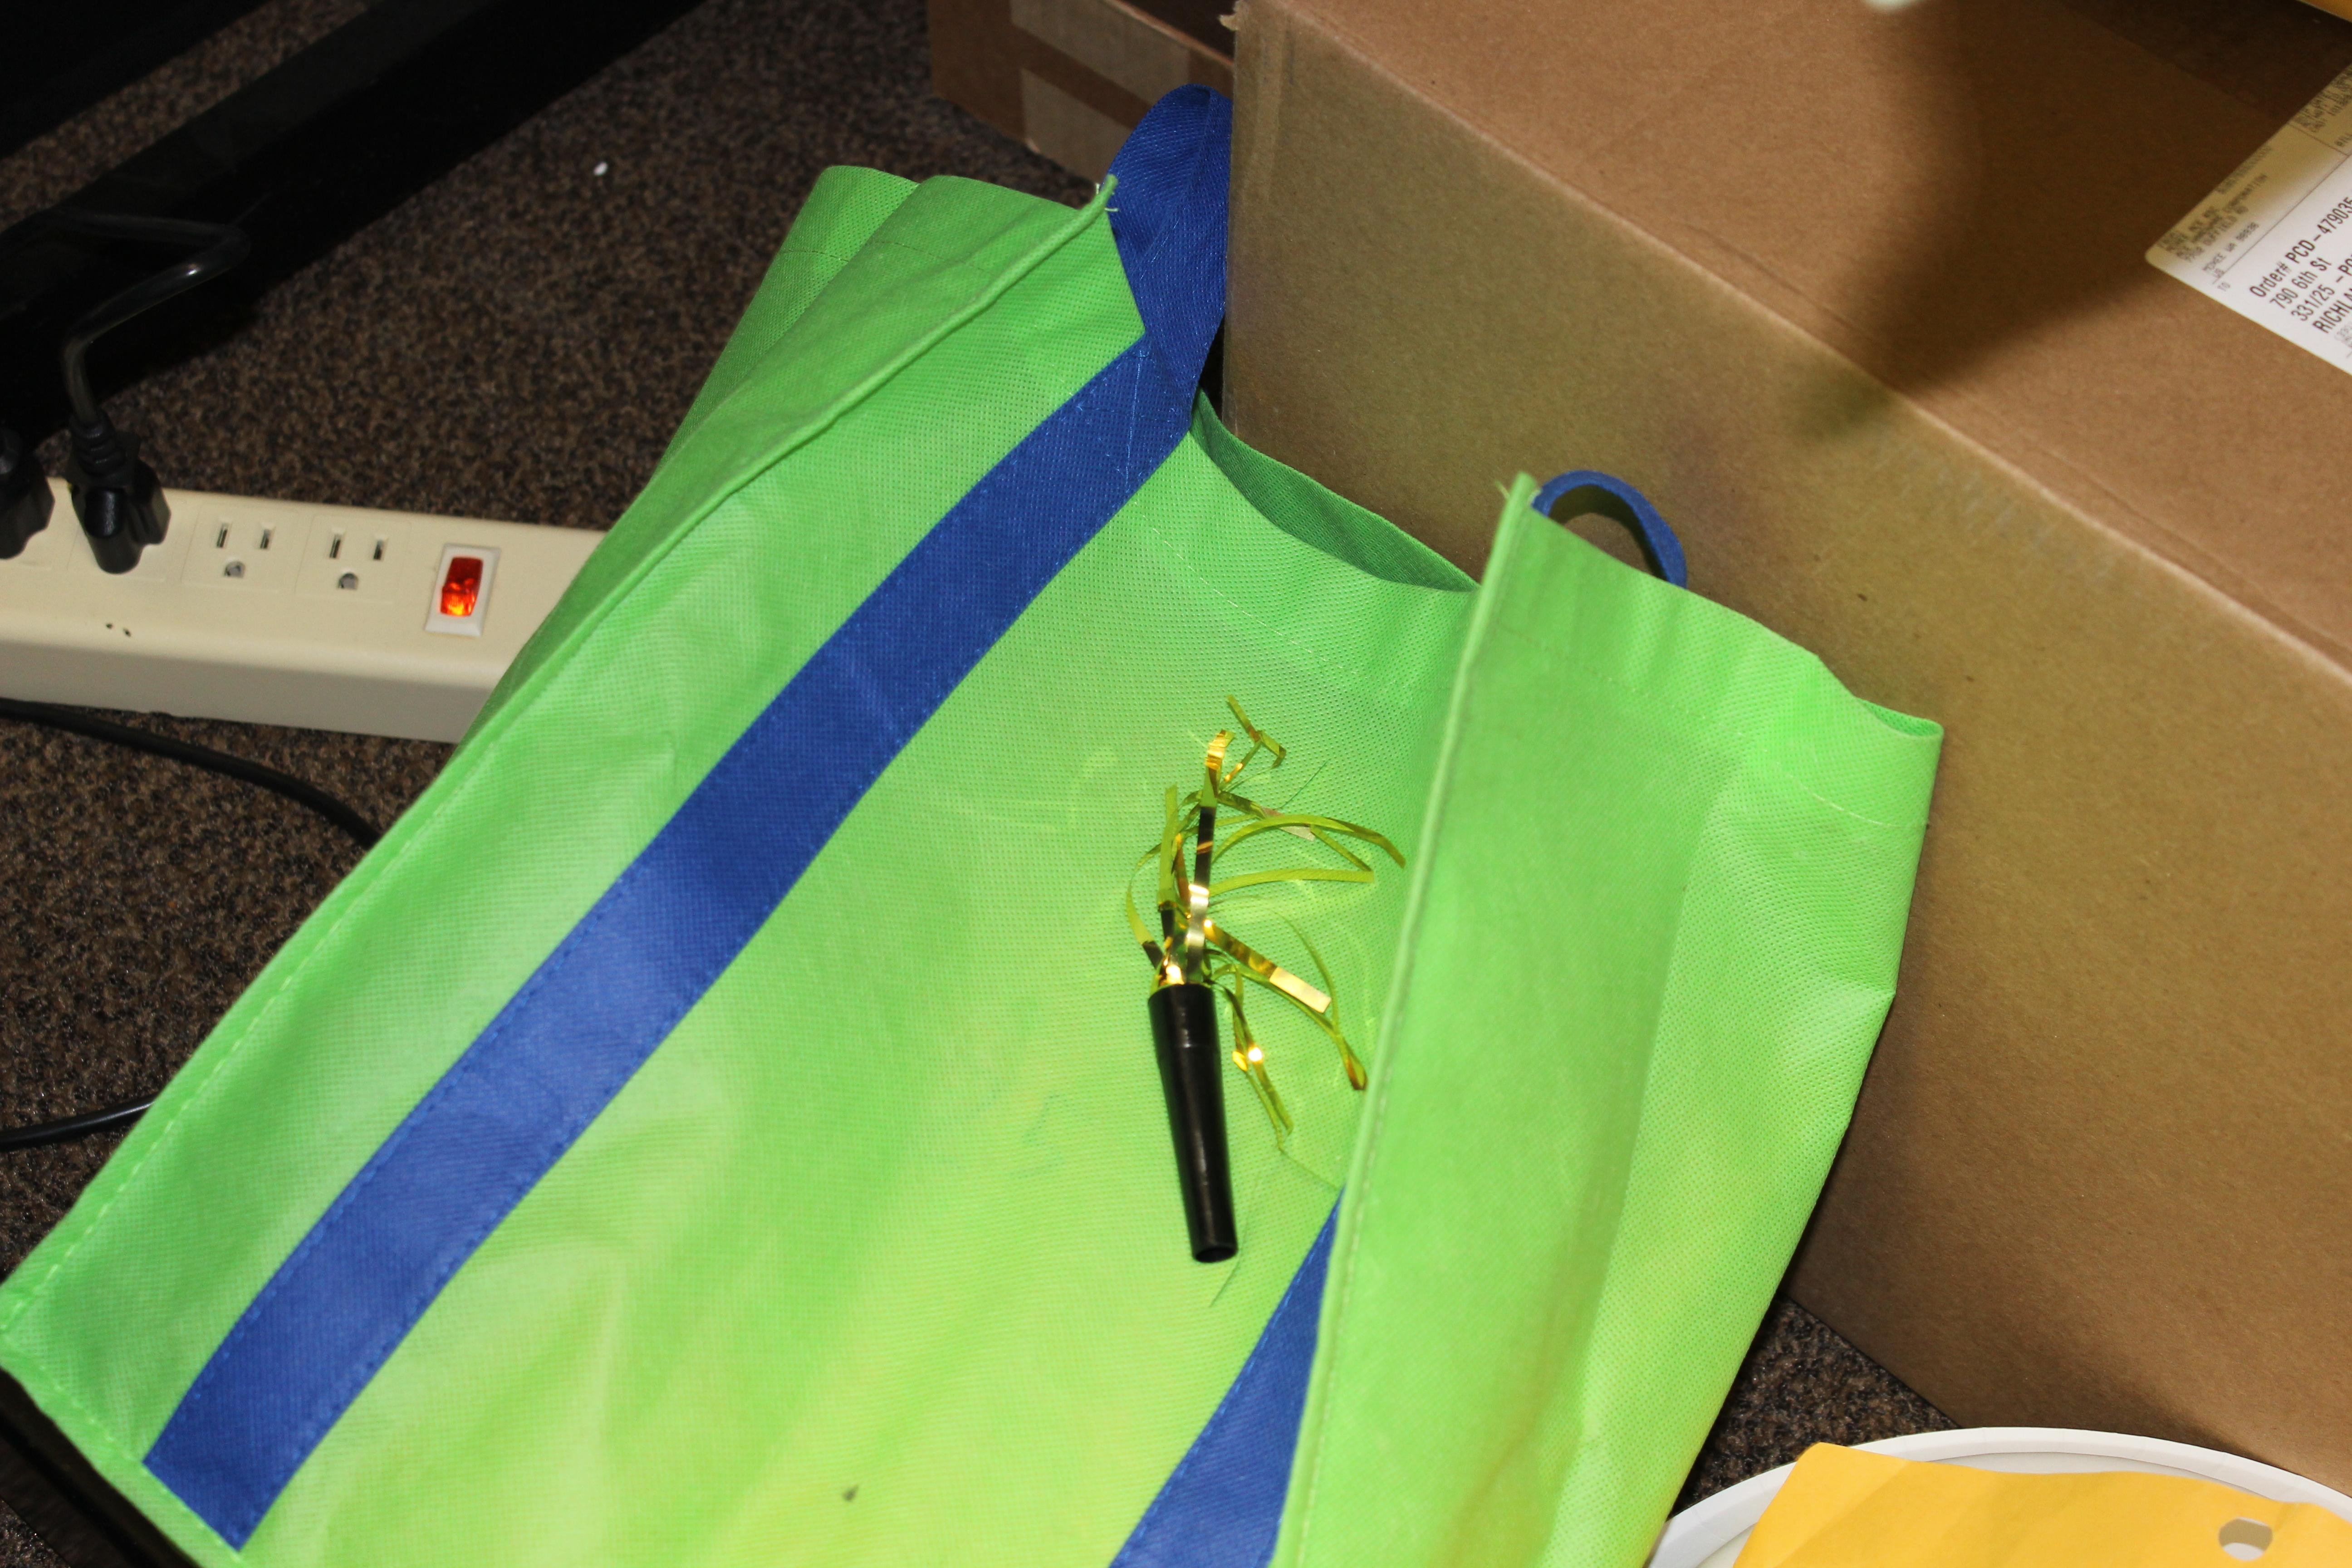partyFavor: (1055, 674, 1437, 1290)
